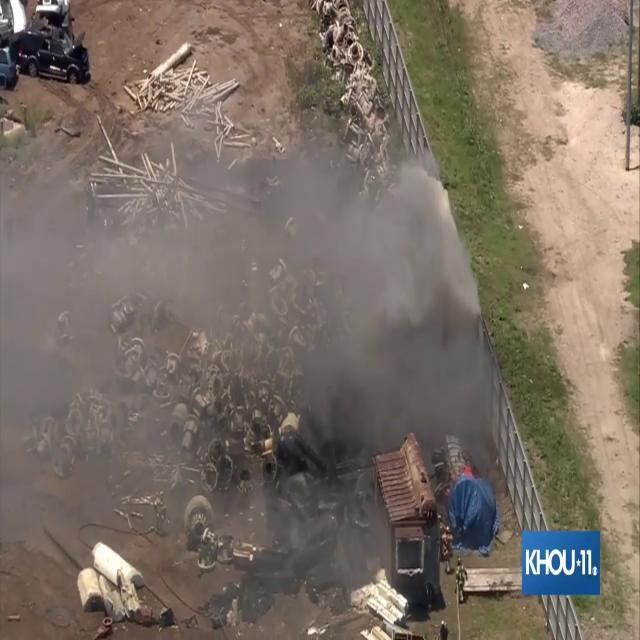Smoke: (0, 98, 500, 532)
